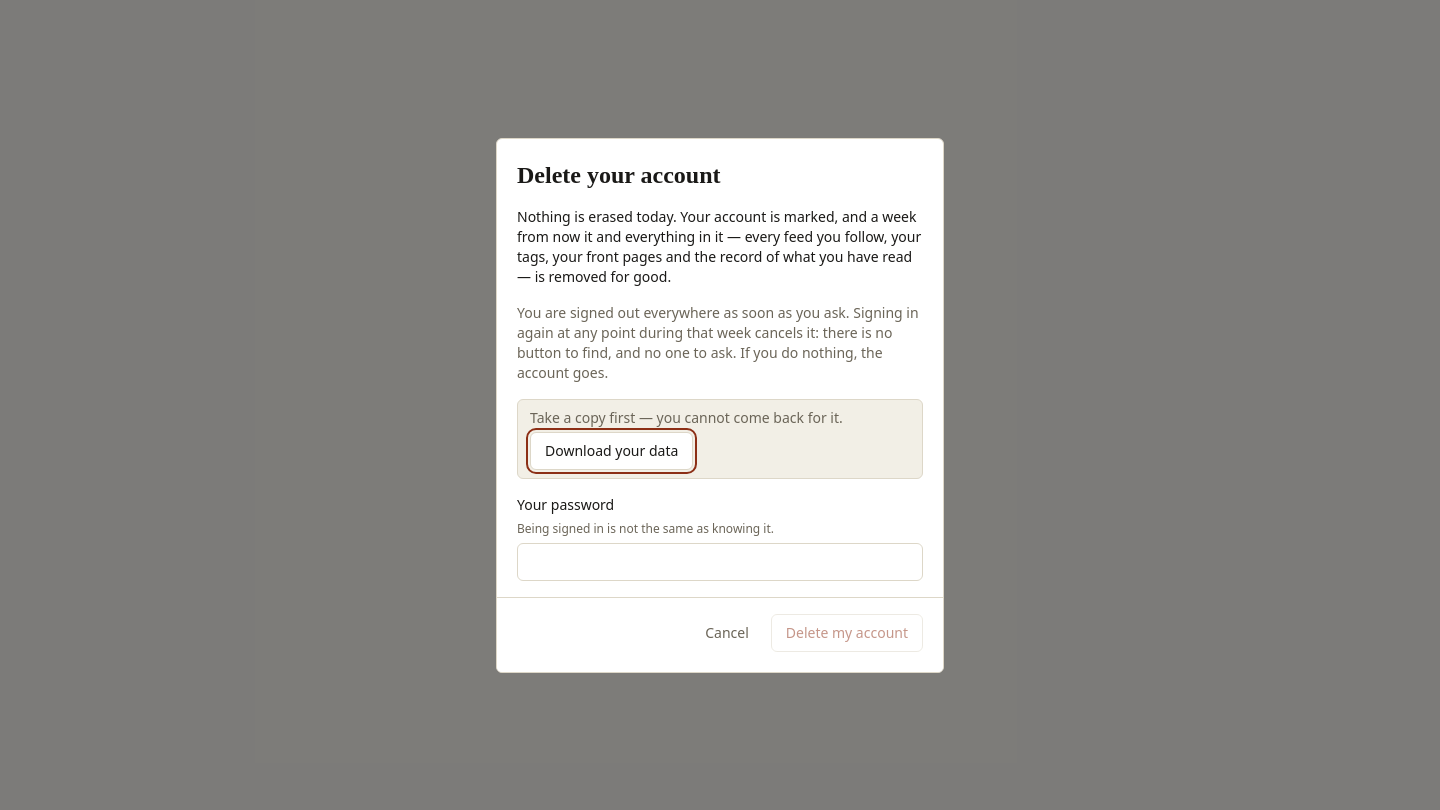
Test: DeleteAccountDialog › says so when the password is refused, and erases nothing
Type "wrong" into the password field labelled "Your password" at (720, 562), box [517,542,923,580]
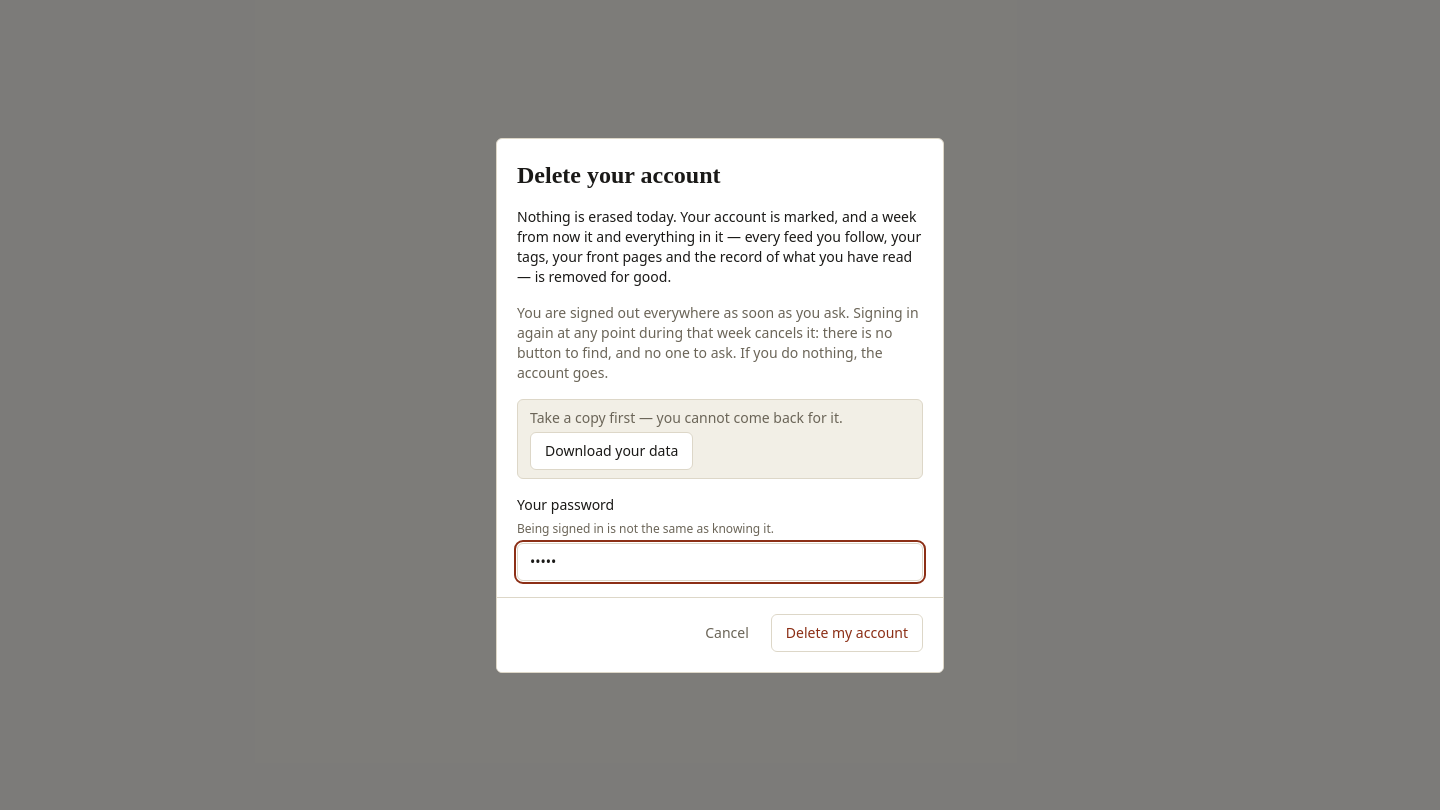
Click the button "Delete my account" at (847, 632), box [771,614,923,652]
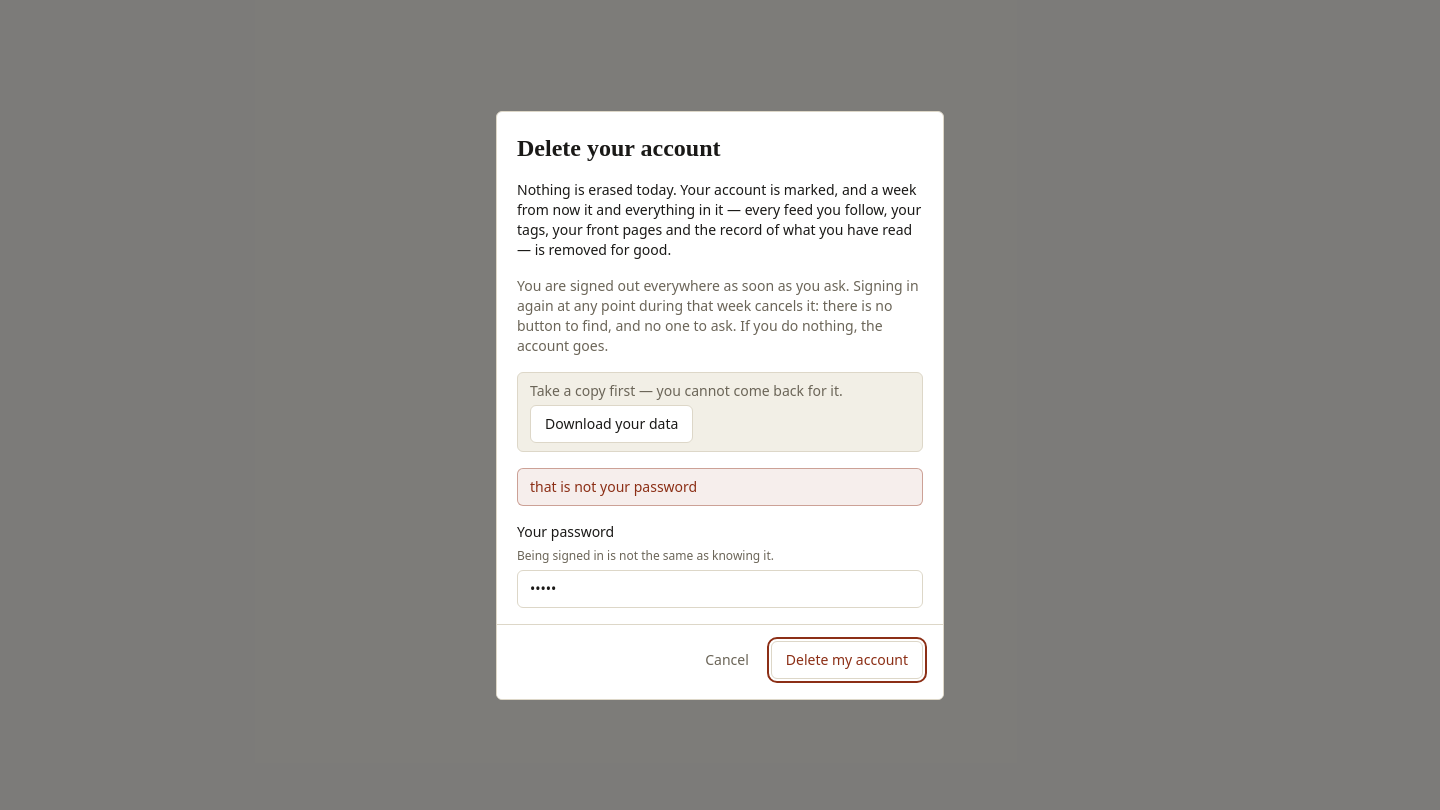
expect the text "that is not your password" is shown: met, box [517,468,923,506]
